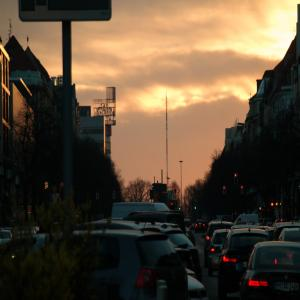Vehicle-registration-plate: (277, 283, 300, 293)
